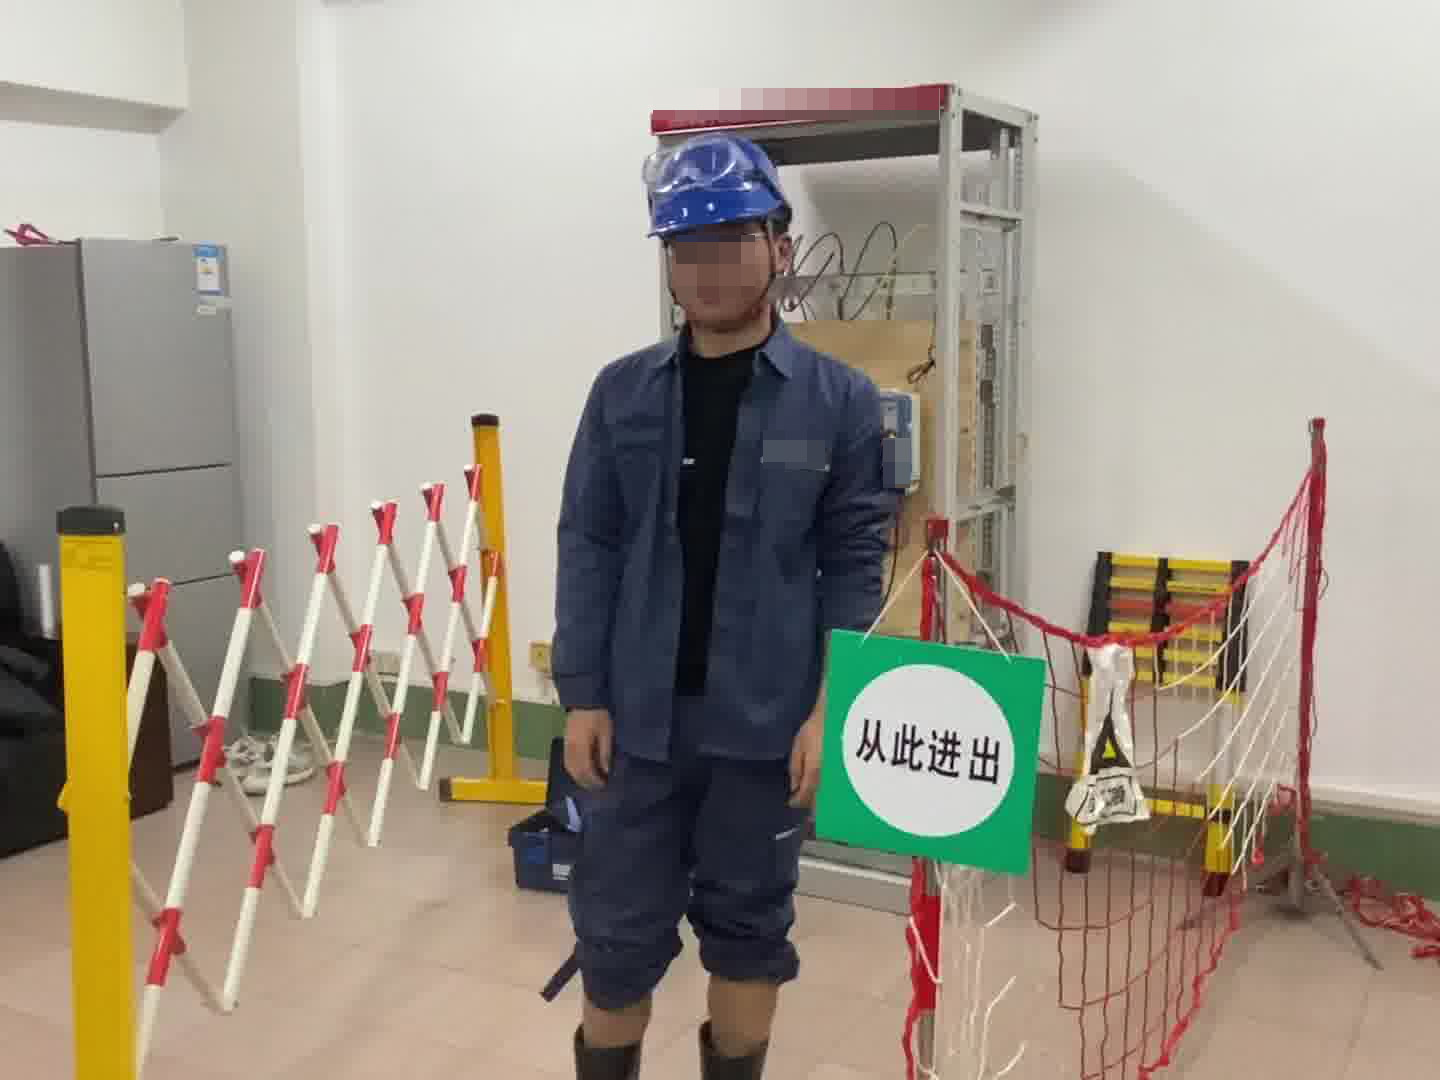downsuit: (537, 767, 807, 1012)
halt: (637, 130, 807, 350)
hand: (777, 711, 832, 808), (560, 710, 618, 794)
inear: (765, 211, 794, 301)
intosign: (810, 610, 1053, 882)
person: (528, 121, 912, 1080)
sleeve: (874, 427, 904, 493)
upsuit: (552, 328, 899, 763)
wrongbottom: (705, 928, 785, 1057), (575, 939, 663, 1051)
wrongsuit: (663, 323, 762, 710)
